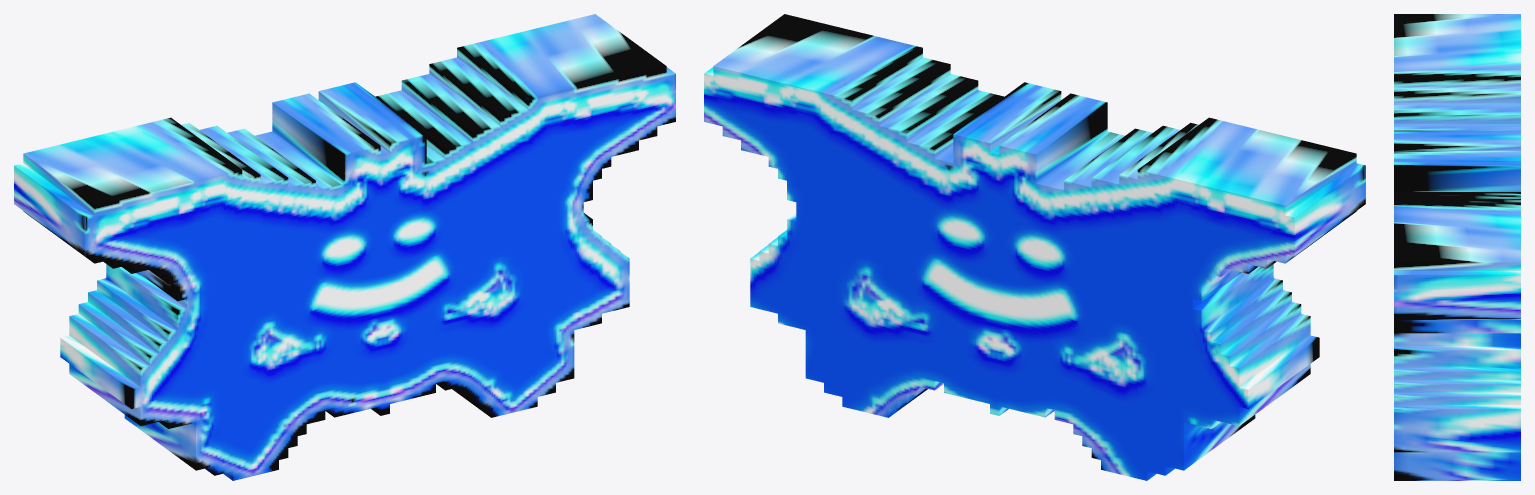
The model's file is bat.glb.
3 views of the same model, side by side, from view 1: azimuth 30°, elevation 25°; view 2: azimuth 150°, elevation 25°; view 3: azimuth 270°, elevation 25° (orthographic). The views are drawn at different scales.
Parts seen in each view (by area): view 1: D3BOSS_voxel; view 2: D3BOSS_voxel; view 3: D3BOSS_voxel.
Part boxes in pixels (bbox=[...]): D3BOSS_voxel: bbox=[14, 14, 675, 480]; D3BOSS_voxel: bbox=[704, 14, 1365, 480]; D3BOSS_voxel: bbox=[1394, 14, 1520, 480].
Bounding box in the file's own units: 3.2 × 1.6 × 0.669.
Materials: 1 (1 with a texture image).
